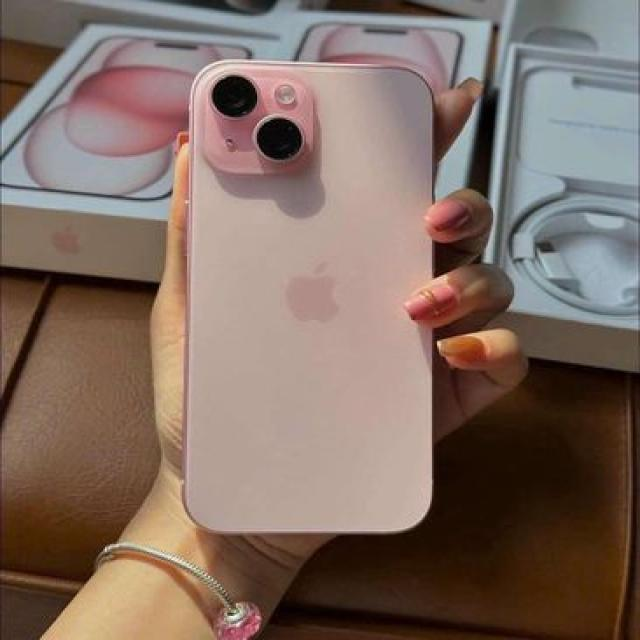gen_15: (172, 49, 446, 540)
